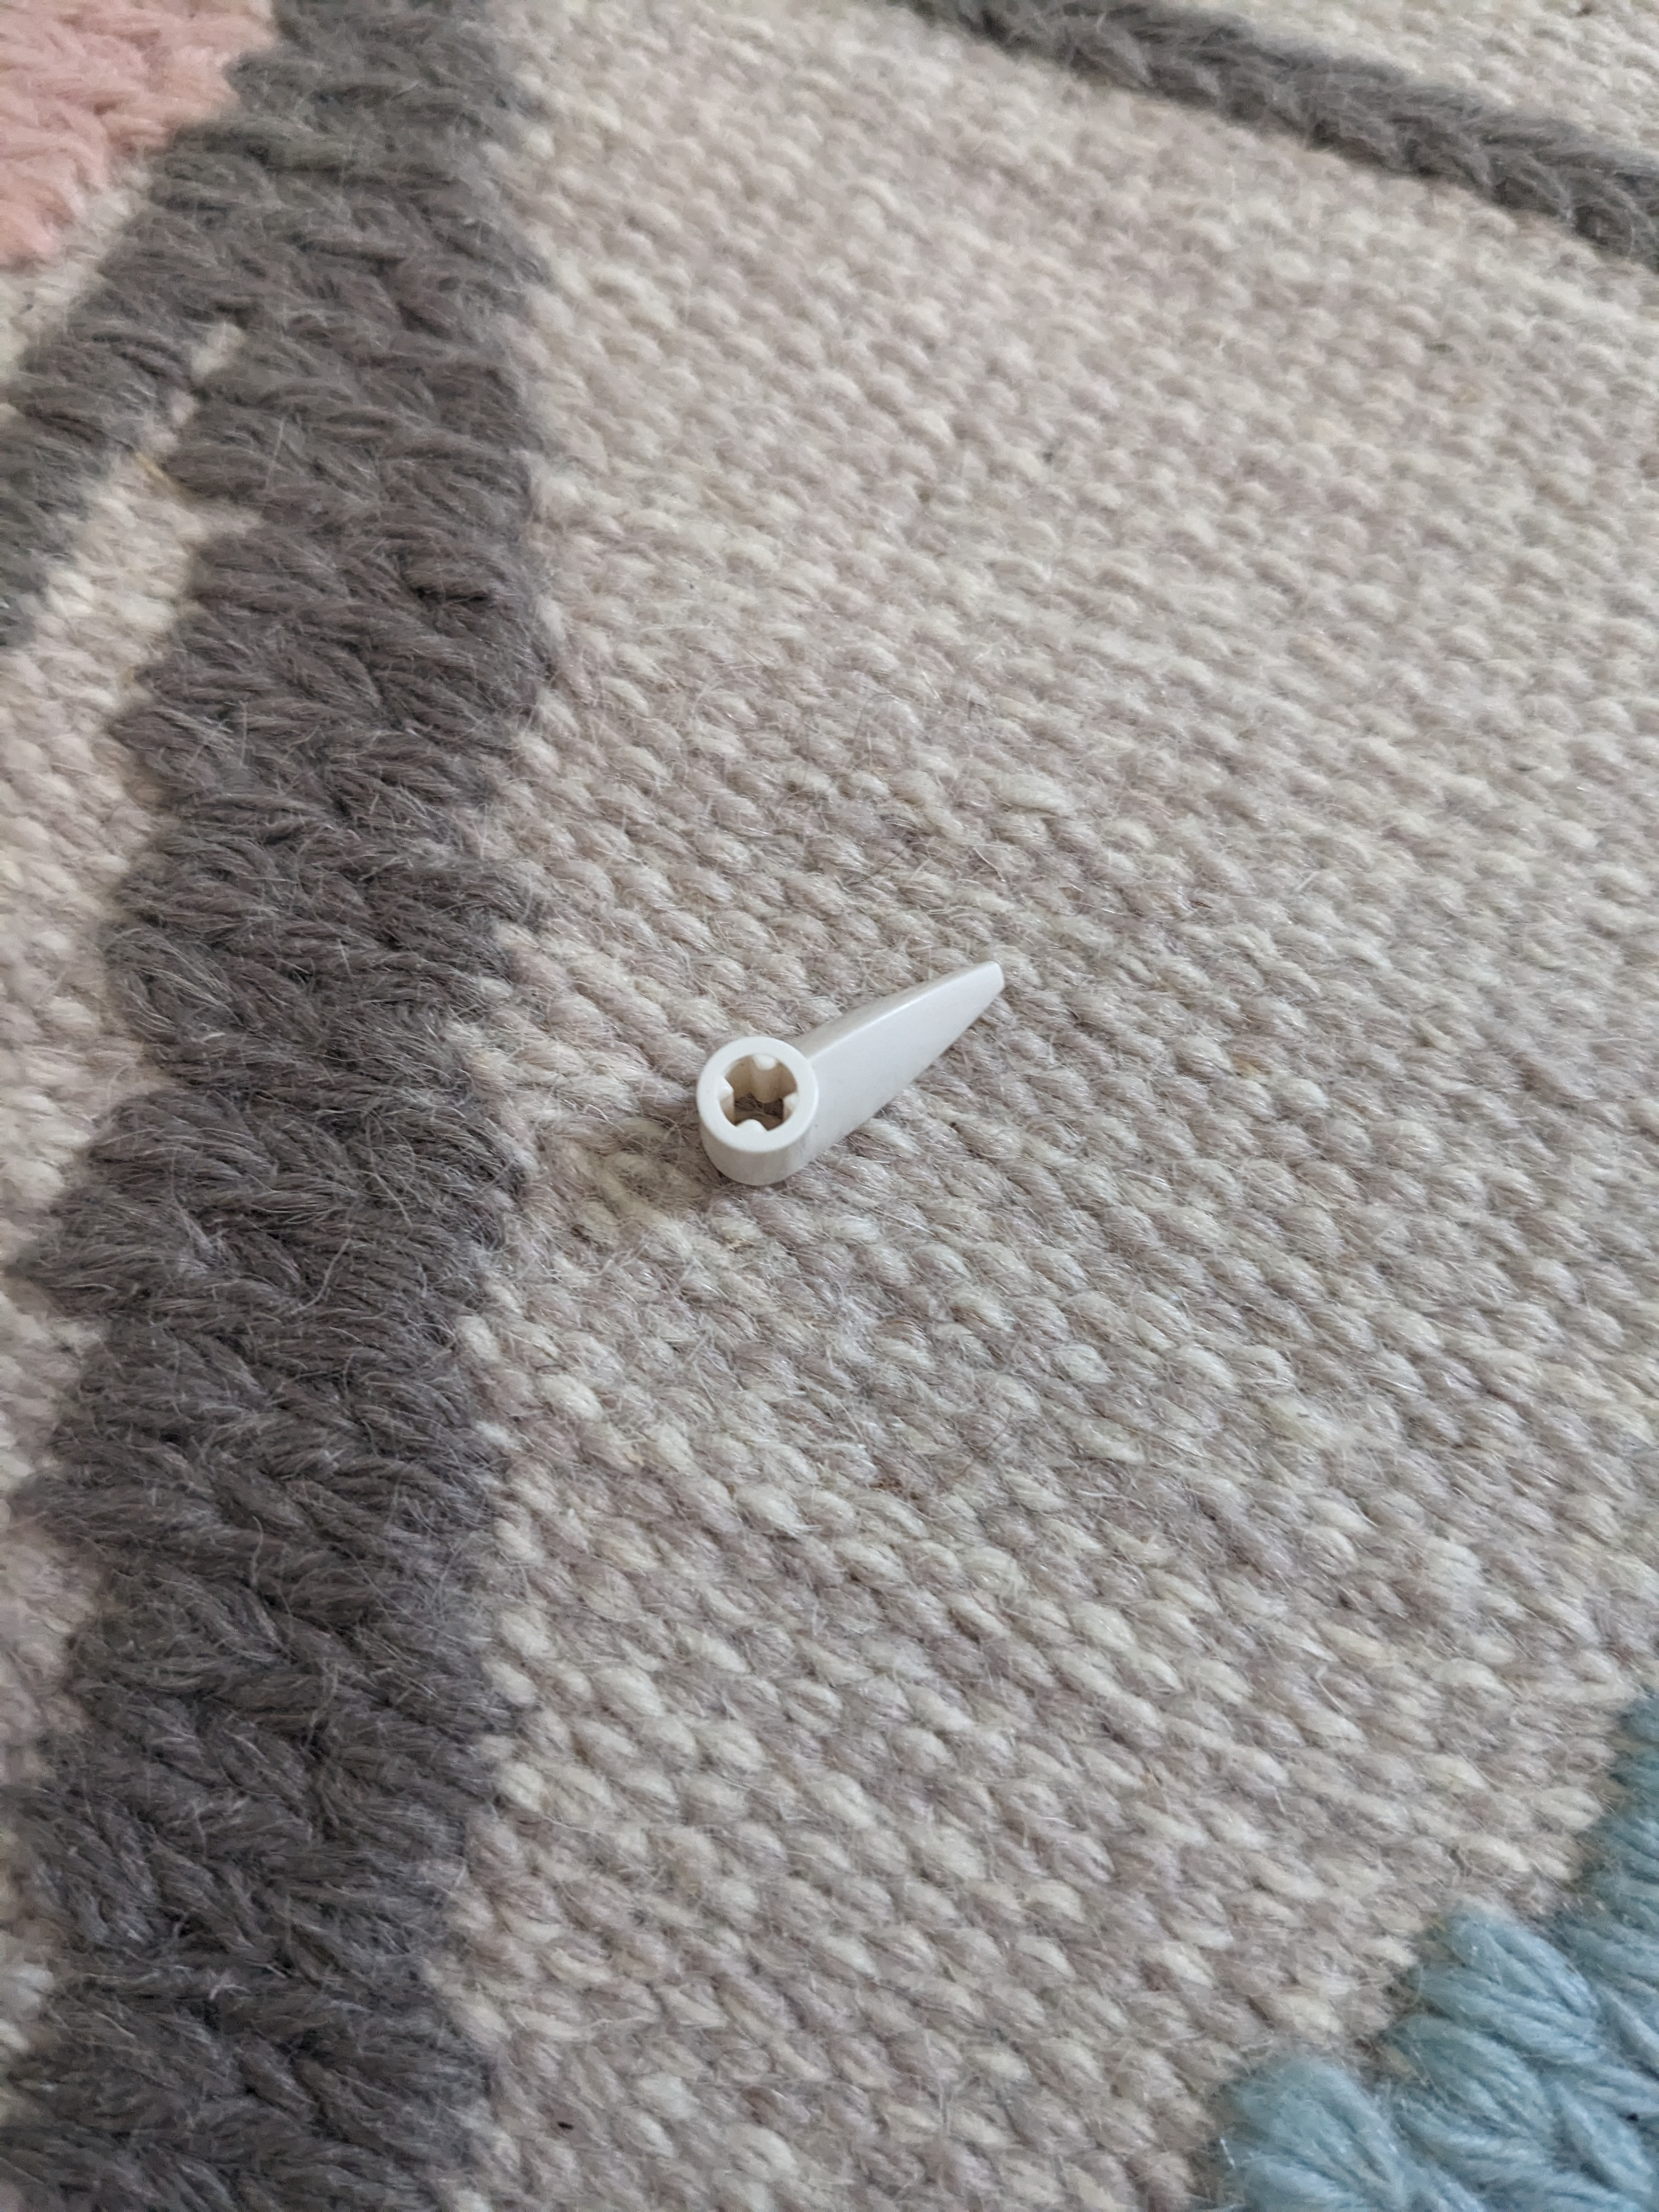Kappe: (680, 942, 1023, 1197)
